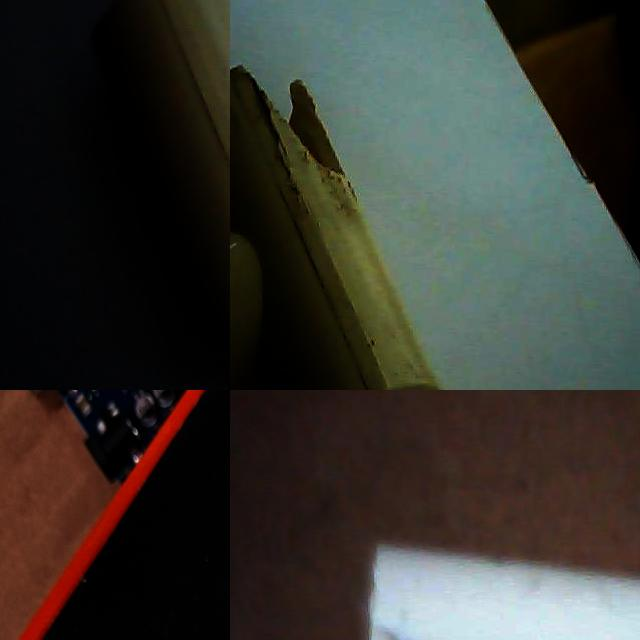Defective: (252, 79, 343, 218), (246, 70, 346, 180), (351, 596, 485, 640), (37, 607, 139, 640), (0, 445, 22, 548)
T Joint: (230, 68, 441, 390), (366, 543, 640, 640)
